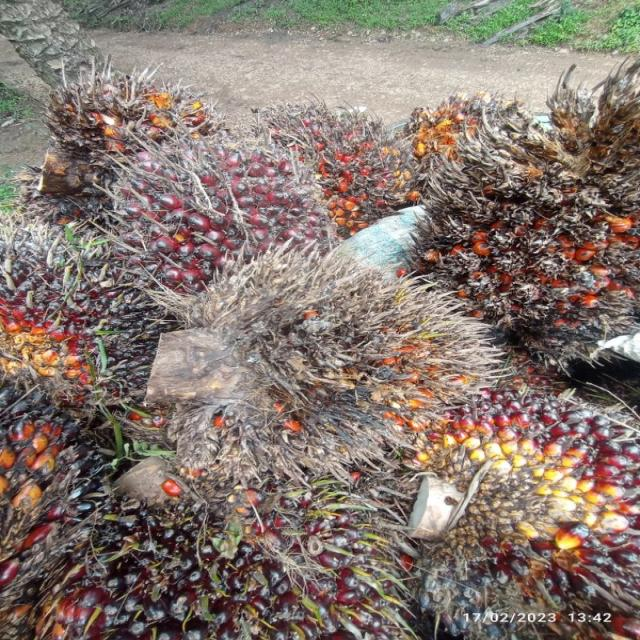fraksi 00: (402, 355, 640, 639), (41, 473, 384, 640), (0, 201, 184, 419)
fraksi 1: (112, 135, 347, 299)
fraksi 4: (172, 233, 494, 472), (436, 58, 636, 348), (258, 100, 432, 242)
